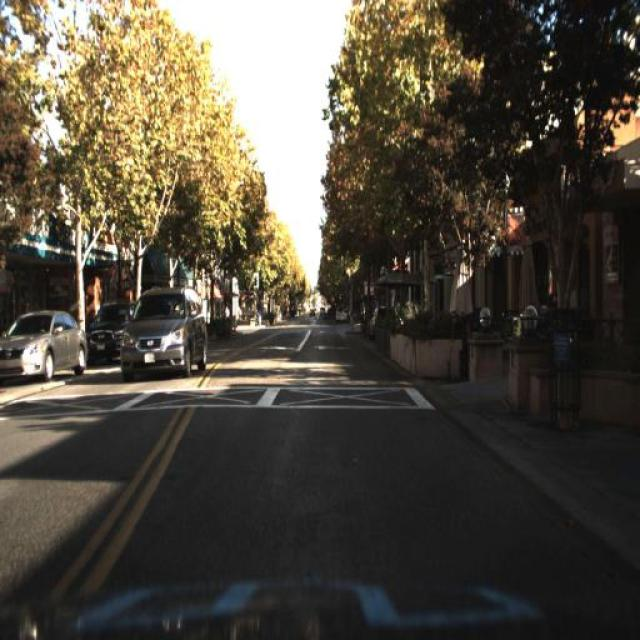car: (117, 282, 208, 388), (118, 281, 208, 378), (0, 310, 91, 384)
